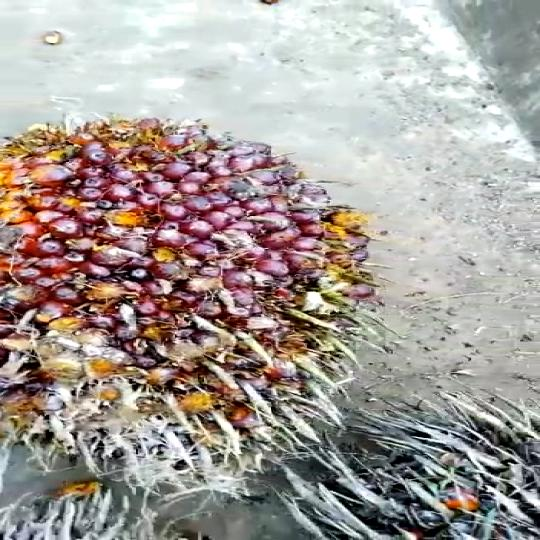masak: (0, 119, 371, 466)
